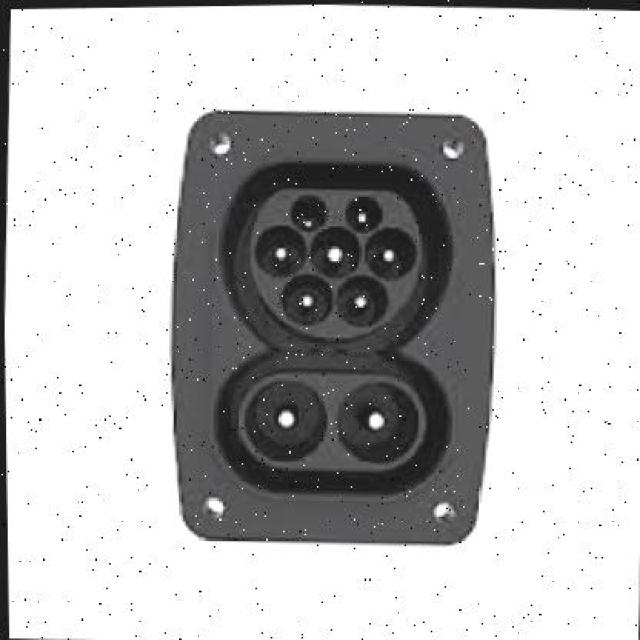CCS2: (188, 151, 471, 507)
